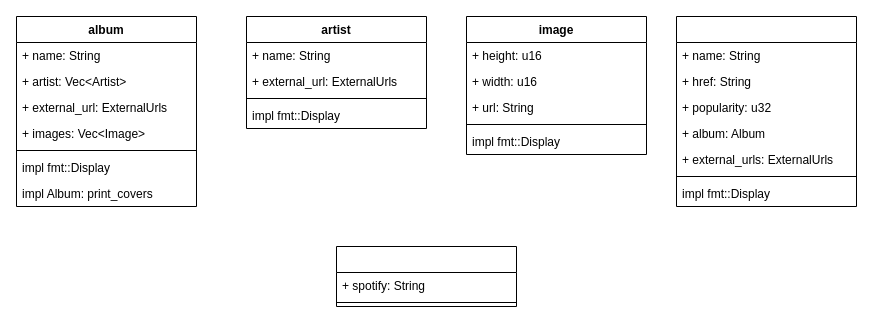
Image size: 873x323. Some labels were removed from this diagram. Here are the shapes that lost their labels. From the top down, the box of each, then its label:
(676, 16, 856, 206): track
(336, 246, 516, 306): external_url
